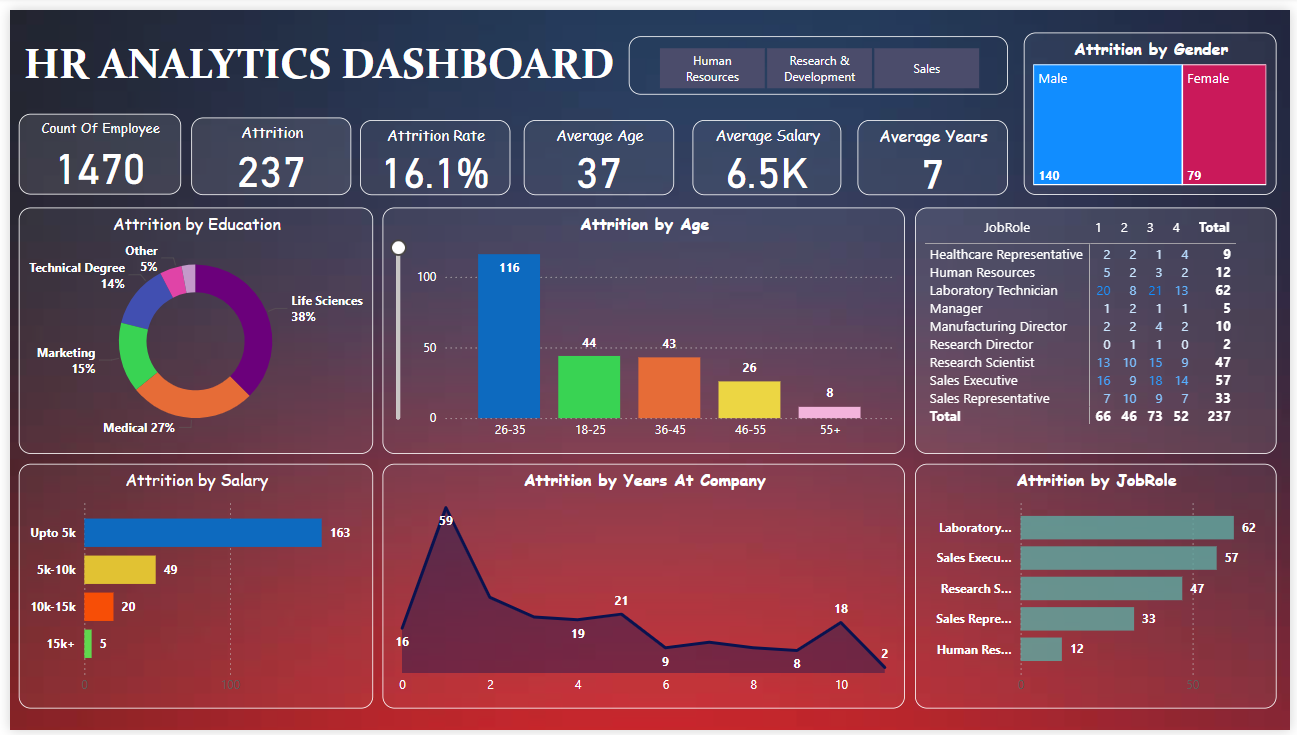

The page's visual inventory and layout, read from the dashboard file:
{"tool":"powerbi","page":{"name":"Page 1","canvas":[1280,720],"ordinal":0},"visuals":[{"type":"card","title":"Count Of Employee","fields":{"Values":["Sum(HR_Analytics.EmployeeCount)"]},"box":[8.3,104.3,162.6,80.6],"z":0},{"type":"card","title":"Attrition","fields":{"Values":["Sum(HR_Analytics.AttritionCount)"]},"box":[180.7,107,159.9,77.8],"z":1000},{"type":"card","title":"Attrition Rate","fields":{"Values":["HR_Analytics.AttritionRate"]},"box":[350.3,109.8,150.1,75.1],"z":2000},{"type":"card","title":"Average Age","fields":{"Values":["Avg(HR_Analytics.Age)"]},"box":[514.3,109.8,150.1,75.1],"z":3000},{"type":"card","title":"Average Salary","fields":{"Values":["Avg(HR_Analytics.MonthlyIncome)"]},"box":[682.5,109.8,148.7,75.1],"z":4000},{"type":"card","title":"Average Years","fields":{"Values":["Avg(HR_Analytics.YearsAtCompany)"]},"box":[848,109.8,150.1,75.1],"z":5000},{"type":"donutChart","title":"Attrition by Education","fields":{"Category":["HR_Analytics.EducationField"],"Y":["Sum(HR_Analytics.AttritionCount)"]},"box":[8.3,197.4,354.5,246],"z":6000},{"type":"columnChart","title":"Attrition by Age","fields":{"Category":["HR_Analytics.AgeGroup"],"Y":["Sum(HR_Analytics.AttritionCount)"]},"box":[372.5,197.4,522.7,246],"z":7000},{"type":"pivotTable","fields":{"Rows":["HR_Analytics.JobRole"],"Columns":["HR_Analytics.JobSatisfaction"],"Values":["Sum(HR_Analytics.AttritionCount)"]},"box":[905,197.4,361.4,246],"z":8000},{"type":"barChart","title":"Attrition by Salary","fields":{"Y":["Sum(HR_Analytics.AttritionCount)"],"Category":["HR_Analytics.SalarySlab"]},"box":[8.3,453.2,354.5,244.7],"z":9000},{"type":"barChart","title":"Attrition by JobRole","fields":{"Y":["Sum(HR_Analytics.AttritionCount)"],"Category":["HR_Analytics.JobRole"]},"box":[905,453.2,361.4,244.7],"z":10000},{"type":"areaChart","title":"Attrition by Years At Company","fields":{"Category":["HR_Analytics.YearsAtCompany"],"Y":["Sum(HR_Analytics.AttritionCount)"]},"box":[372.5,453.2,522.7,244.7],"z":11000},{"type":"treemap","title":"Attrition by Gender","fields":{"Group":["HR_Analytics.Gender"],"Values":["Sum(HR_Analytics.AttritionCount)"]},"box":[1013.4,22.2,253,162.6],"z":12000},{"type":"textbox","box":[8.3,22.2,654.7,66.7],"z":14000},{"type":"slicer","fields":{"Values":["HR_Analytics.Department"]},"box":[618.6,26.4,379.5,58.4],"z":14001}]}

Visuals, with their boxes in screenshot pixels (x1, y1, x2, y2), scaled from the page's 1280x720 canvas onto the 1297x735 screenshot:
"Count Of Employee" card: [left=8, top=106, right=173, bottom=189]
"Attrition" card: [left=183, top=109, right=345, bottom=189]
"Attrition Rate" card: [left=355, top=112, right=507, bottom=189]
"Average Age" card: [left=521, top=112, right=673, bottom=189]
"Average Salary" card: [left=692, top=112, right=842, bottom=189]
"Average Years" card: [left=859, top=112, right=1011, bottom=189]
"Attrition by Education" donutChart: [left=8, top=202, right=368, bottom=453]
"Attrition by Age" columnChart: [left=377, top=202, right=907, bottom=453]
pivotTable - HR_Analytics.JobRole x HR_Analytics.JobSatisfaction: [left=917, top=202, right=1283, bottom=453]
"Attrition by Salary" barChart: [left=8, top=463, right=368, bottom=712]
"Attrition by JobRole" barChart: [left=917, top=463, right=1283, bottom=712]
"Attrition by Years At Company" areaChart: [left=377, top=463, right=907, bottom=712]
"Attrition by Gender" treemap: [left=1027, top=23, right=1283, bottom=189]
textbox: [left=8, top=23, right=672, bottom=91]
slicer - HR_Analytics.Department: [left=627, top=27, right=1011, bottom=87]
